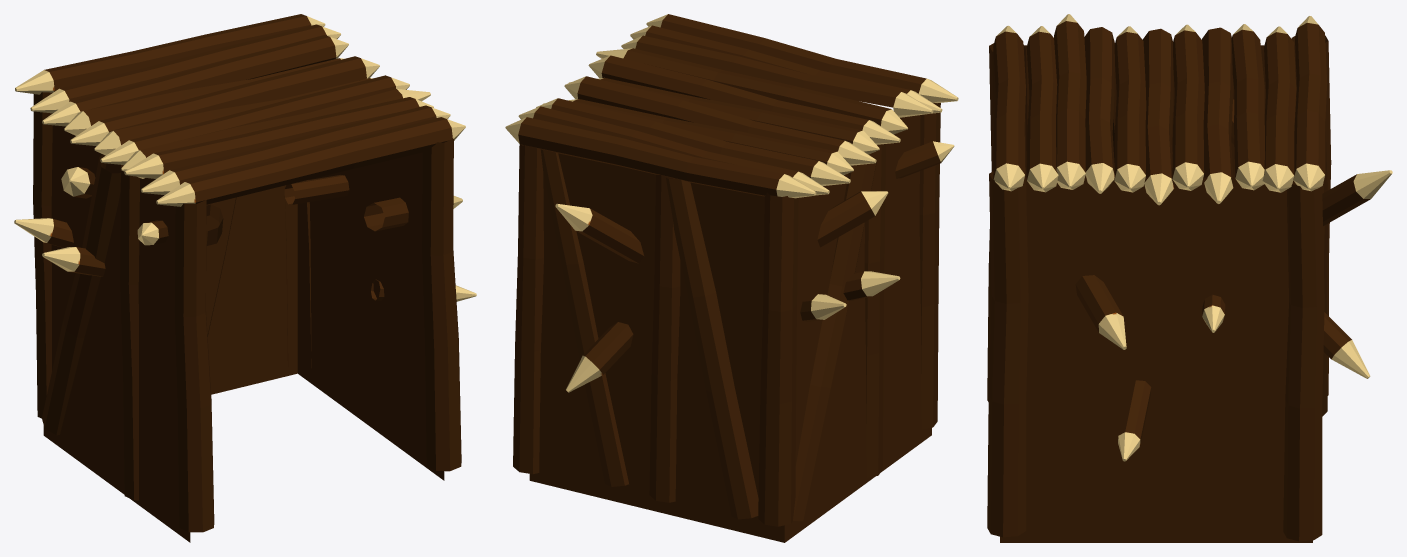
File: dam2.fbx
3 renders of one model, left to right at view 1: azimuth 30°, elevation 25°; view 2: azimuth 150°, elevation 25°; view 3: azimuth 270°, elevation 25°, orthographic. The views are drawn at different scales.
Parts seen in each view (by area): view 1: Загата.001; view 2: Загата.001; view 3: Загата.001.
Boxes of the visible parts, x1,y1,x2,y2 form: Загата.001: (14, 14, 476, 542); Загата.001: (505, 14, 958, 542); Загата.001: (987, 14, 1392, 542).
Size of the model in its own units: 2.97 by 2.57 by 2.43.
